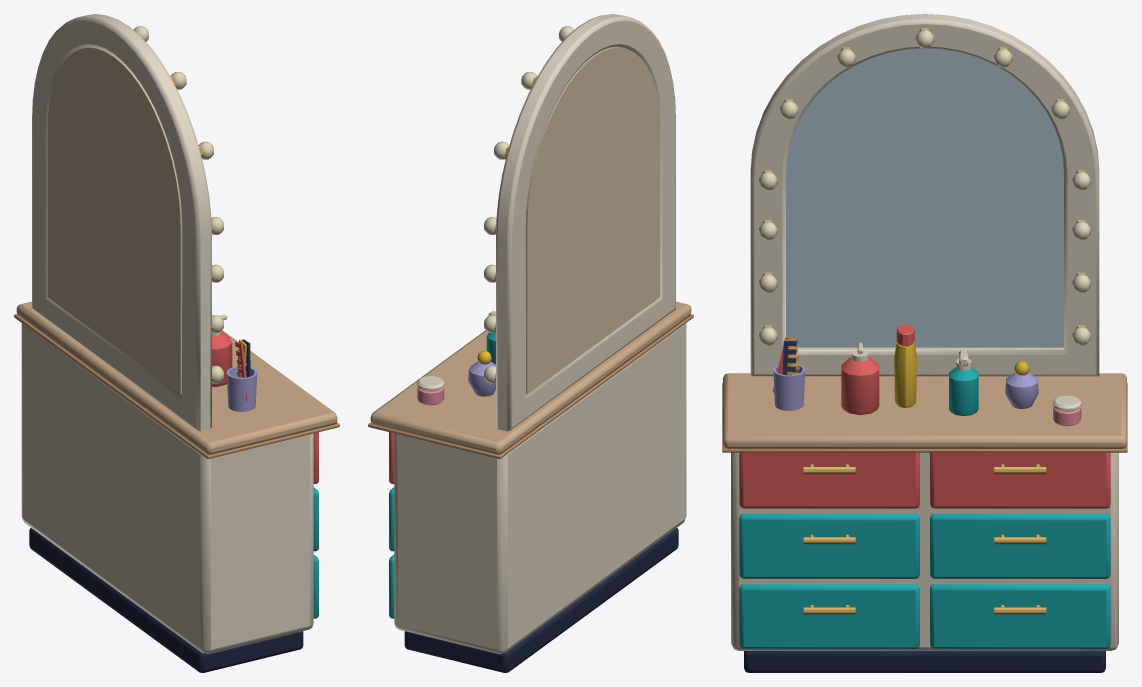
File: station.glb
3 renders of one model, left to right at view 1: azimuth 30°, elevation 25°; view 2: azimuth 150°, elevation 25°; view 3: azimuth 270°, elevation 25°, orthographic. The views are drawn at different scales.
Parts seen in each view (by area): view 1: Station; view 2: Station; view 3: Station, Mirror.
Part boxes in pixels (left/top/right/bottom): Station: left=14, top=14, right=339, bottom=672; Station: left=368, top=14, right=693, bottom=672; Station: left=722, top=14, right=1127, bottom=672; Mirror: left=786, top=48, right=1063, bottom=347.
Bounding box in the file's own units: 0.495 × 2.08 × 1.25.
